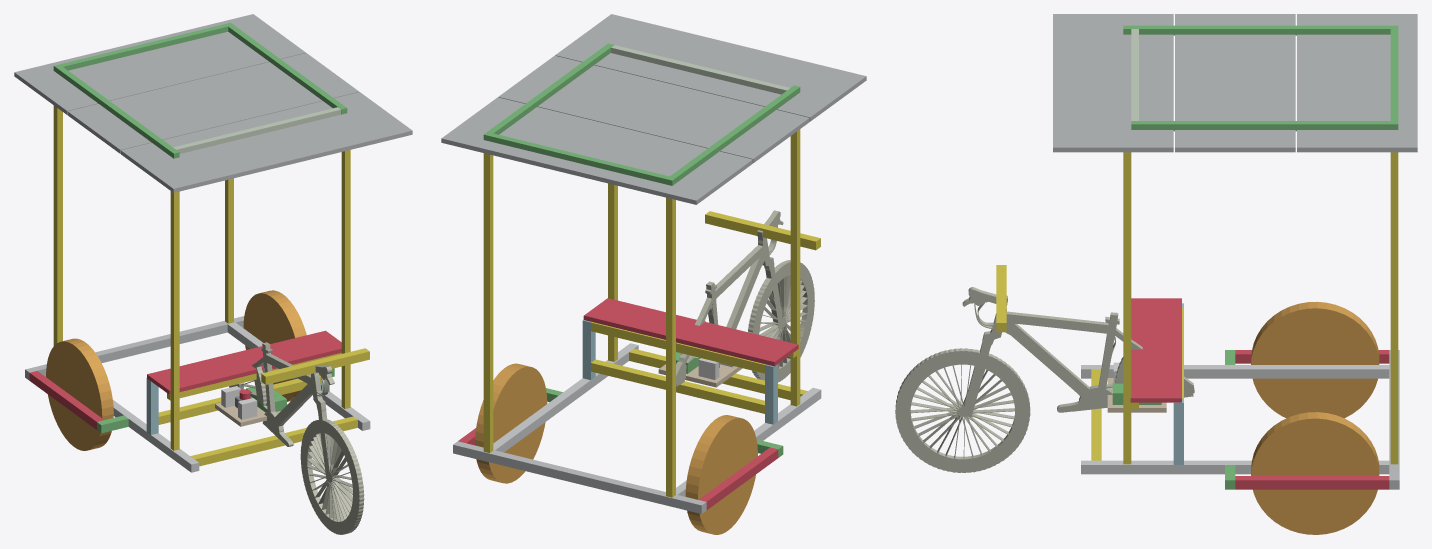
The model's file is Carro Solar.glb.
The picture shows the model from 3 angles, left to right: view 1: azimuth 30°, elevation 25°; view 2: azimuth 150°, elevation 25°; view 3: azimuth 270°, elevation 25°; orthographic projection. The views are drawn at different scales.
Visible parts, largest first — view 1: Mesh_Mesh_head_geo.001_lambert2SG.001; view 2: Mesh_Mesh_head_geo.001_lambert2SG.001; view 3: Mesh_Mesh_head_geo.001_lambert2SG.001.
Part boxes in pixels (x1,y1,x2,y2): Mesh_Mesh_head_geo.001_lambert2SG.001: [14, 14, 412, 534]; Mesh_Mesh_head_geo.001_lambert2SG.001: [441, 14, 866, 534]; Mesh_Mesh_head_geo.001_lambert2SG.001: [895, 14, 1417, 534].
Size of the model in its own units: 0.123 by 0.1725 by 0.2033.
